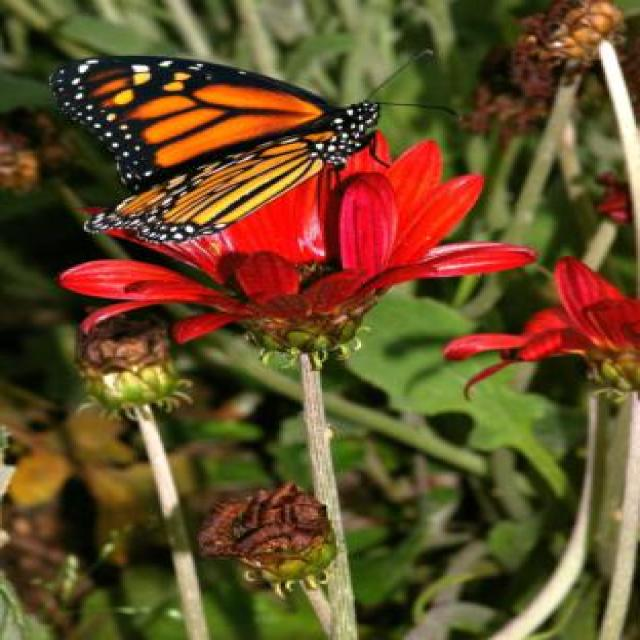antennae: (344, 46, 460, 120)
body: (304, 100, 386, 170)
insect: (51, 46, 464, 242)
legs: (352, 128, 399, 170)
wings: (56, 52, 332, 243)
